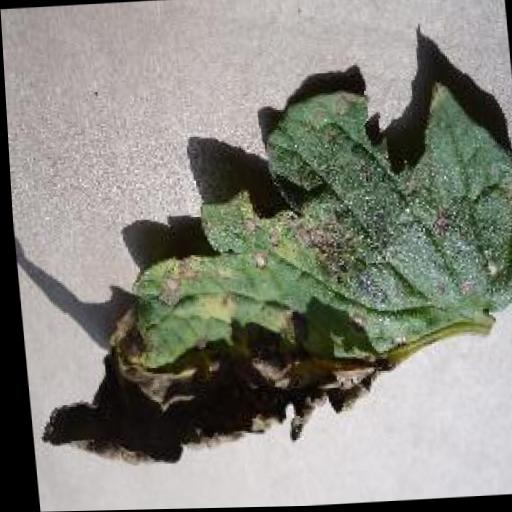Early Blight: (8, 75, 512, 474)
